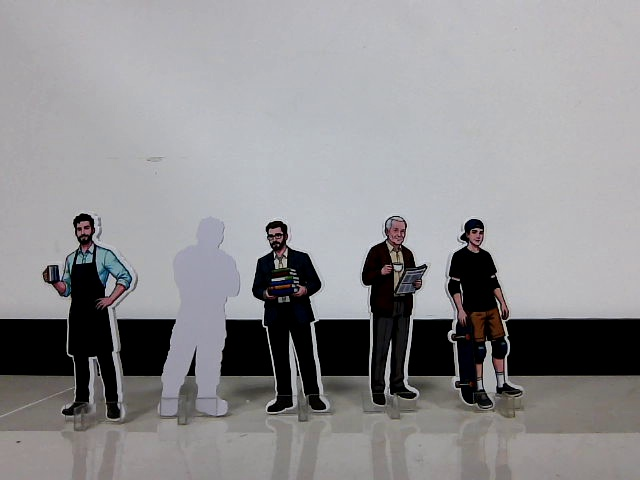community_person: (35, 206, 144, 434), (247, 213, 336, 428), (440, 211, 530, 422), (353, 206, 432, 426)
